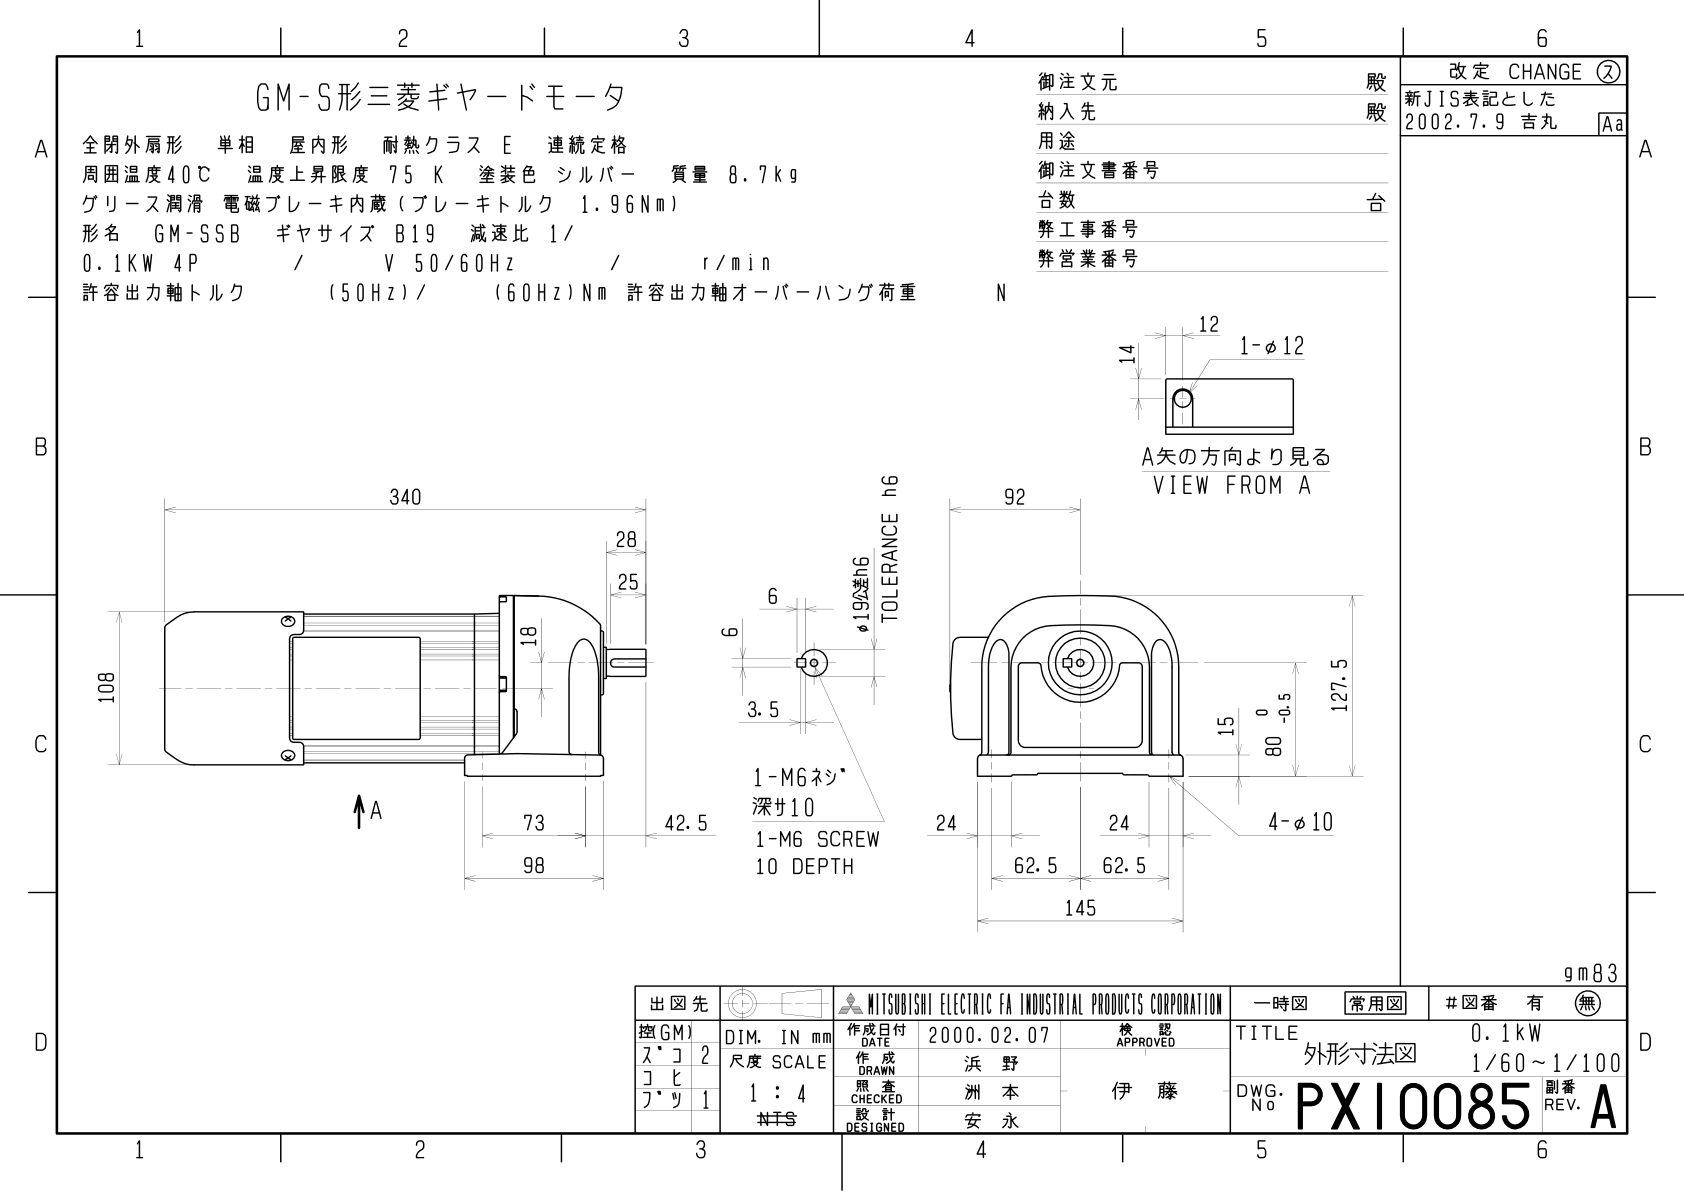GM_S_屋内＿単相_脚: (6, 10, 1684, 1191)
